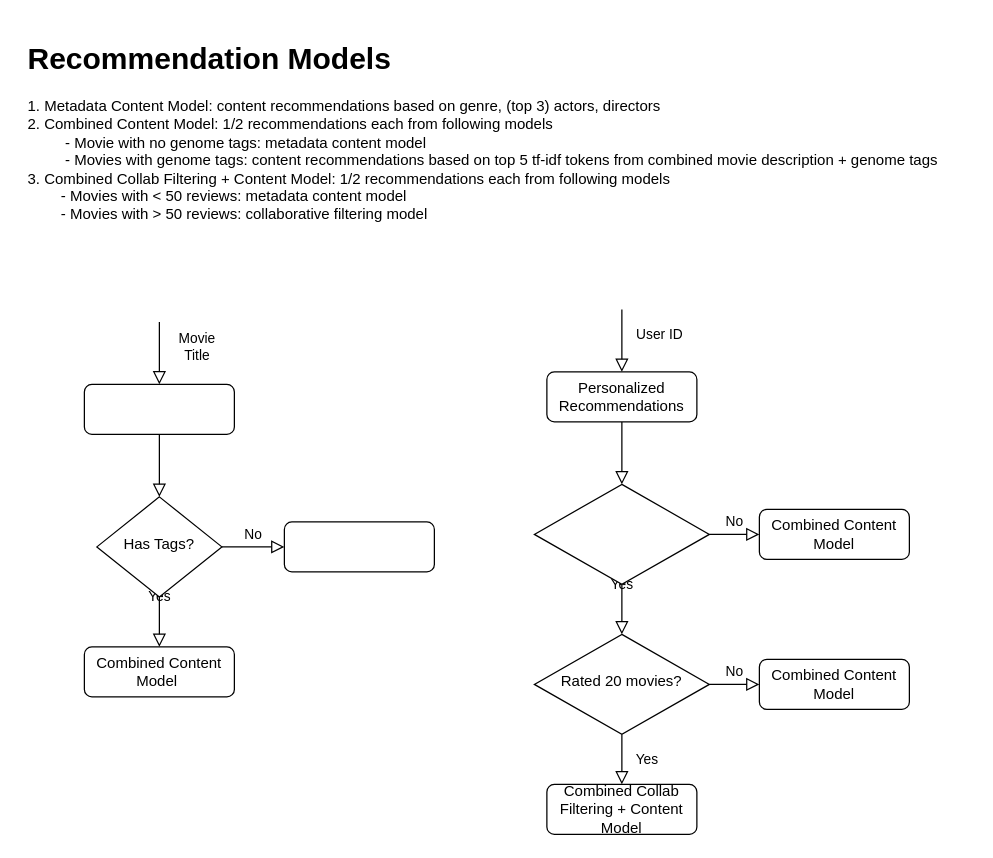
The diagram is 993 pixels wide and 858 high, and some of its shapes have lost their labels. The shapes that lost their labels are listed below. From the top down, each one's centre as x and y in pixels, then its label:
At pixel 158 408: "Item-Item Recommendations".
At pixel 358 546: "Metadata Content Model".
At pixel 621 533: "Pre-existing? (vs newly entered)".
